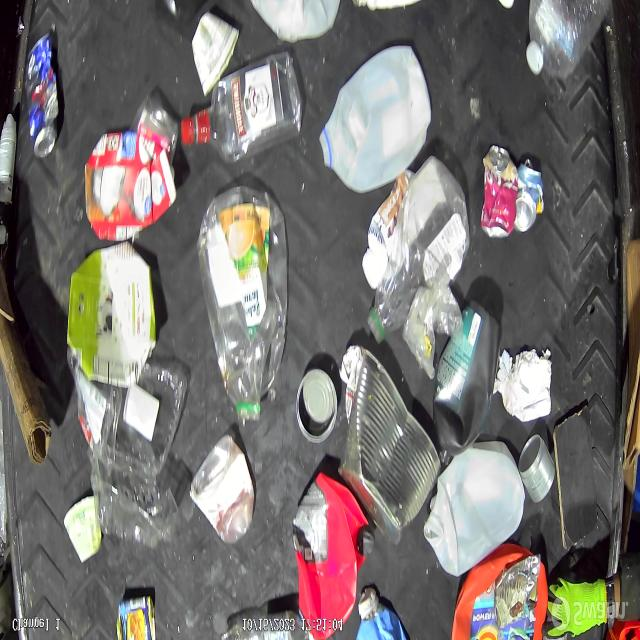can: (338, 348, 442, 546), (189, 434, 256, 546), (24, 30, 60, 160), (479, 144, 518, 240), (295, 366, 339, 446), (518, 433, 556, 504), (513, 156, 545, 234), (115, 593, 158, 640)
milk_jug: (318, 41, 434, 195), (423, 438, 526, 578)
non_white_jug: (292, 472, 376, 640), (67, 241, 157, 388), (432, 296, 505, 465), (84, 130, 177, 242), (451, 543, 549, 640)
plastic_bottle: (195, 182, 292, 424), (366, 154, 471, 344), (67, 349, 188, 475), (180, 53, 302, 164), (91, 459, 178, 548), (523, 0, 613, 84)
